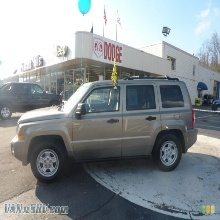no damage: (9, 77, 199, 183), (1, 78, 64, 117)
